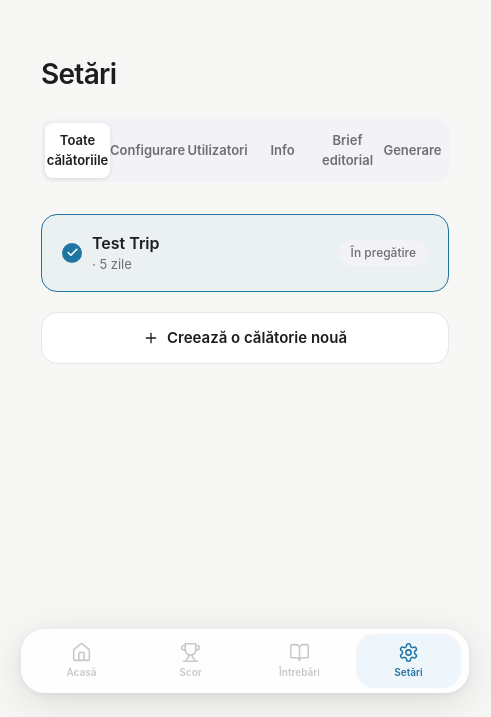
Trip editorial brief: editable form before publication › a failed load shows a retry that re-fetches
Click the button "Brief editorial": (348, 150) [315,123,380,178]
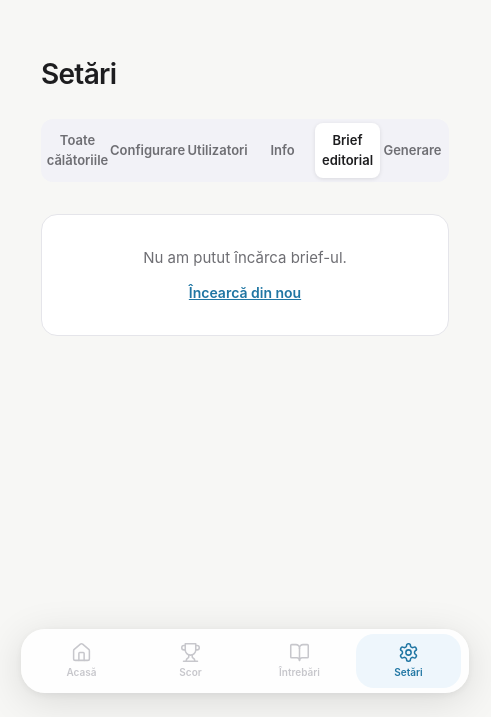
Expected: the text "Nu am putut încărca brief-ul." is shown, [143,247,347,270]
Click the button "Încearcă din nou": (245, 292) [189,282,301,302]
(page scrolled)
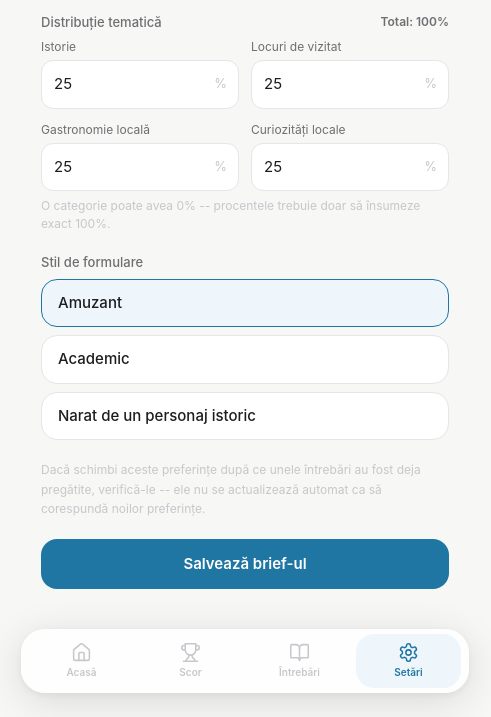
Expected: the button "Salvează brief-ul" is shown, [41,538,449,589]
